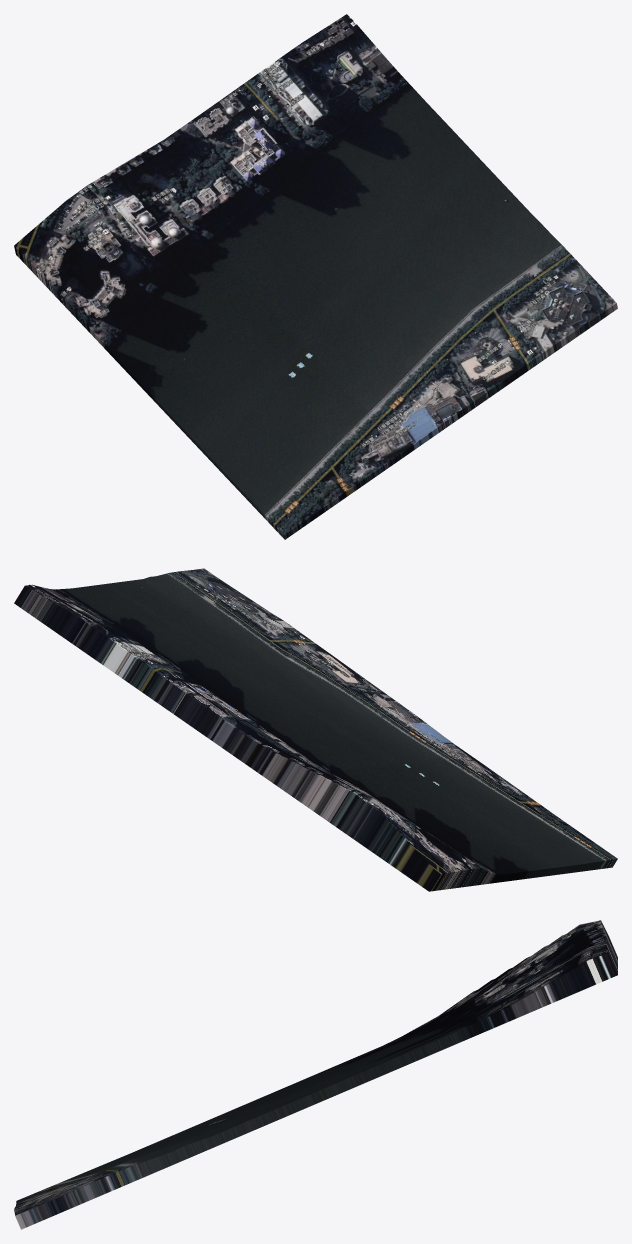
3 renders of one model, top to bottom at view 1: azimuth 30°, elevation 25°; view 2: azimuth 150°, elevation 25°; view 3: azimuth 270°, elevation 25°, orthographic. The views are drawn at different scales.
Visible parts, largest first — view 1: 0_13_19; view 2: 0_13_19; view 3: 0_13_19.
Boxes of the visible parts, box(x1,y1,x2,y2) form: 0_13_19: box(14, 14, 617, 539); 0_13_19: box(14, 568, 617, 891); 0_13_19: box(14, 920, 617, 1229).
Size of the model in its own units: 600 by 447 by 548.
1 material, 1 textured.
